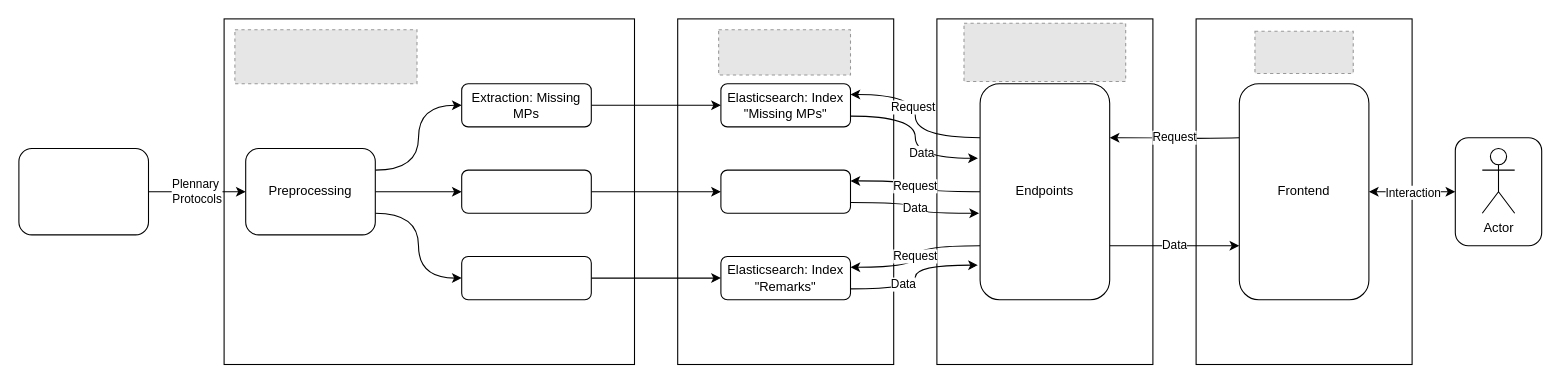
Some shapes in this 1561 by 383 pixel diagram are drawn without their labels. Grey dashed boxes stand in for pictures. Here are the shapes that lost their labels. From the top down, the box of each, then its label:
(18, 147, 148, 235): Bundestag API
(461, 169, 591, 213): Extraction: Speeches
(720, 169, 850, 213): Elasticsearch: Index "Speeches"
(461, 255, 591, 300): Extraction: Remarks
